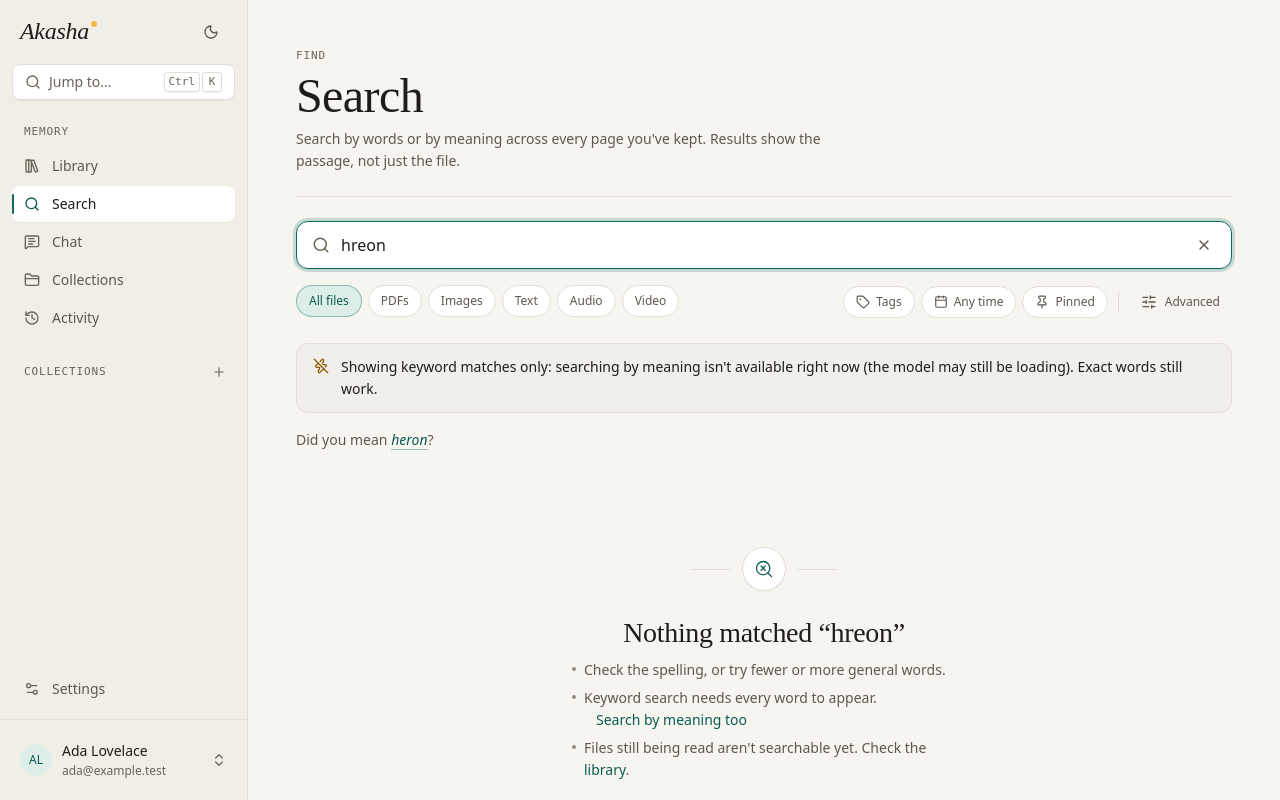
search page › offers the spelling suggestion and warns when degraded
Check: the text "Showing keyword matches only" is shown, box [341, 357, 1182, 398]
Check: the heading "Nothing matched “hreon”" is shown, box [623, 615, 905, 651]
Click the button "heron" at (409, 440), box [391, 429, 428, 451]
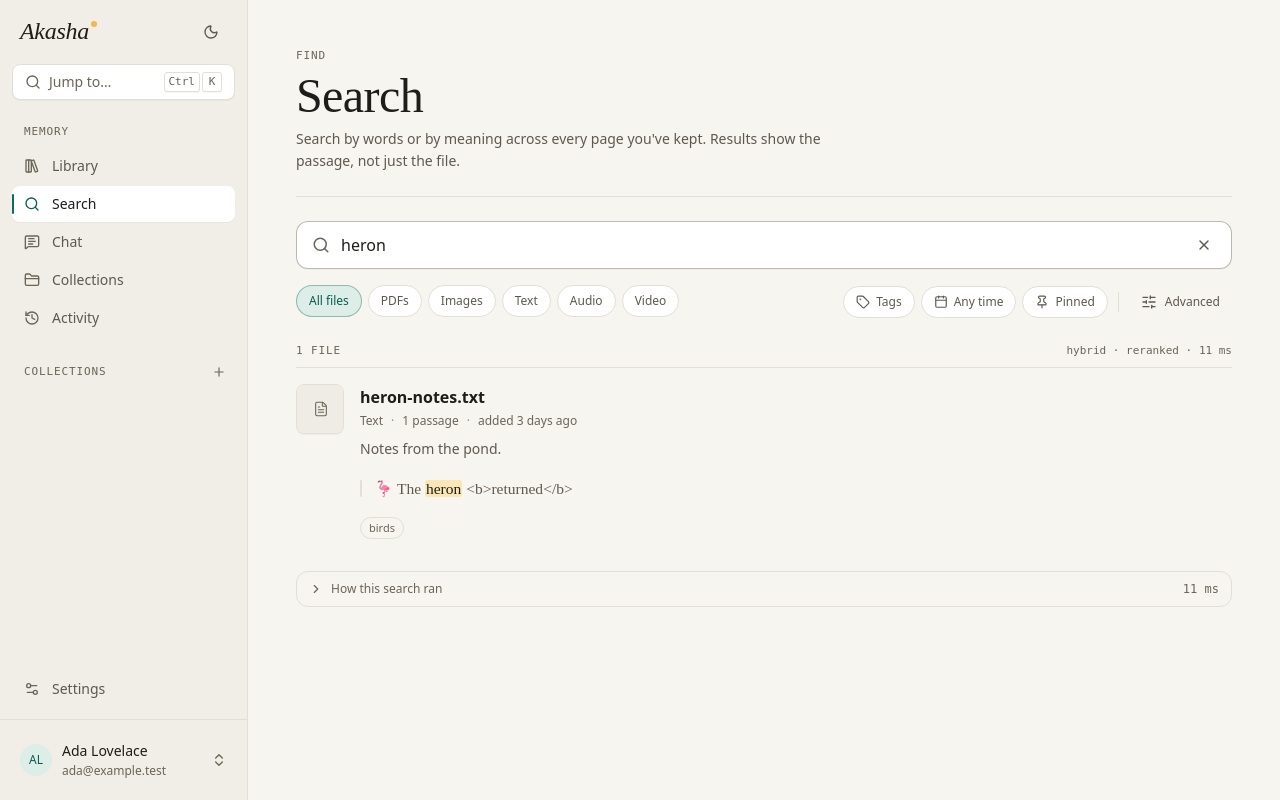
Check: the search field holds "heron", box [296, 221, 1232, 269]
